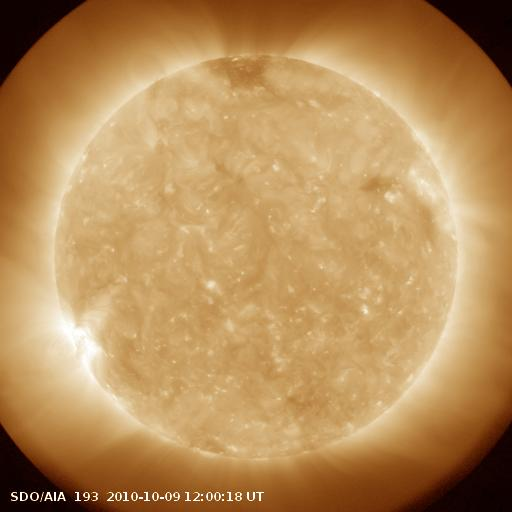coronal_hole: (202, 49, 281, 101)
